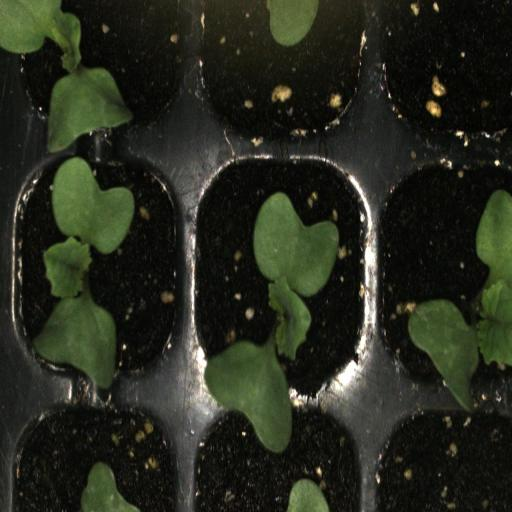Folha: (80, 462, 140, 512), (260, 0, 320, 48)
Germinacao: (193, 140, 373, 390), (11, 140, 190, 390), (375, 142, 512, 392), (6, 0, 190, 136)
